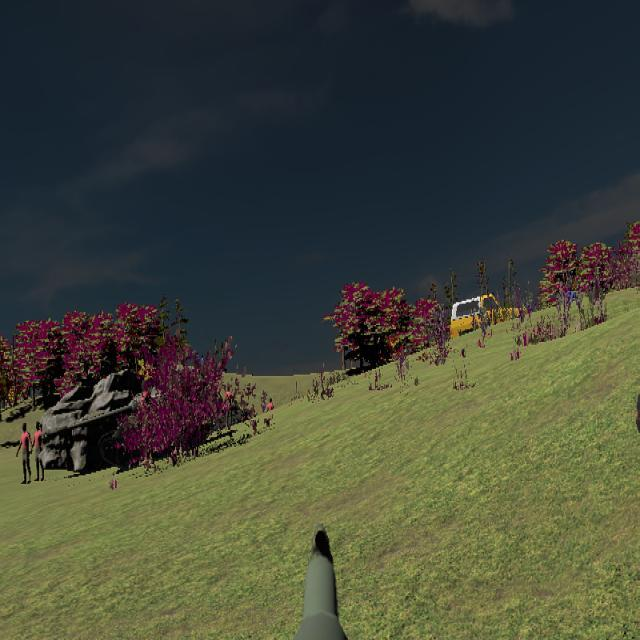Human: (30, 420, 47, 483), (17, 420, 32, 485)
car: (450, 294, 524, 344)
